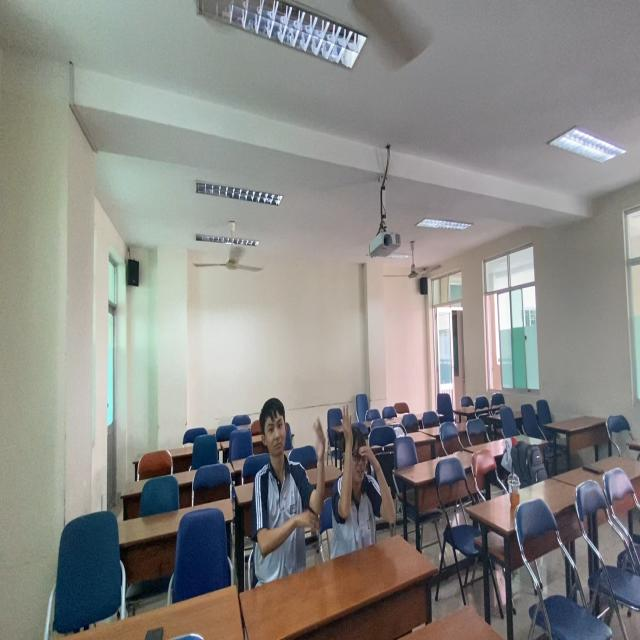raise_hand: (249, 395, 327, 593), (339, 401, 400, 572)
